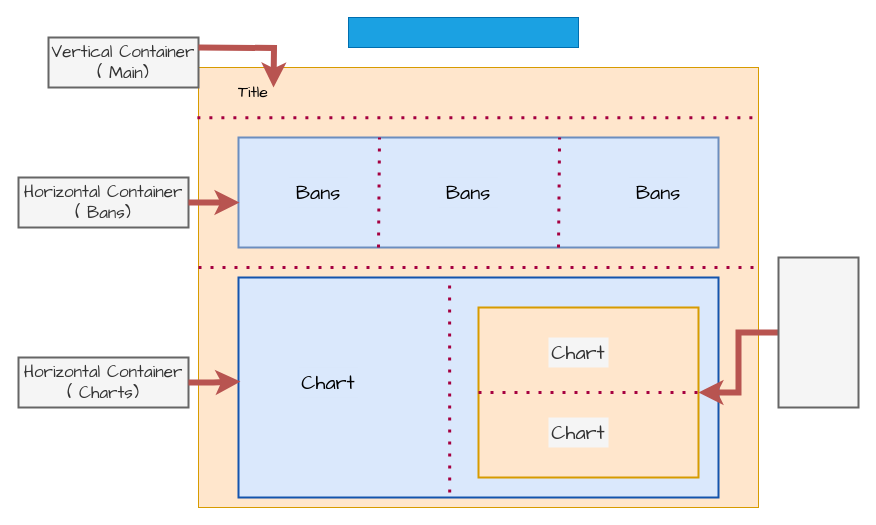
This 876x525 diagram has some shape labels left out. The shapes that lost their labels are listed below. From the top down, each one's box as (x1, y1, x2, y2) in pixels, then its label:
(348, 16, 578, 48): Container Mockup
(777, 256, 859, 408): Vertical Container ( Charts)
